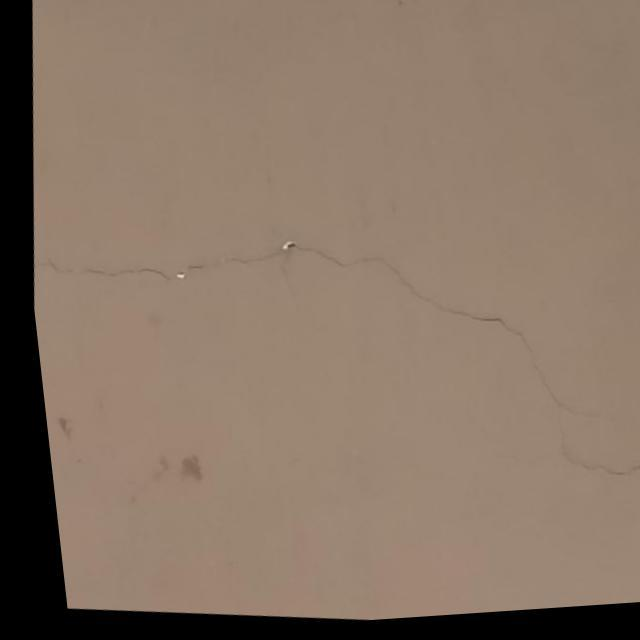Crack: (53, 237, 626, 421)
